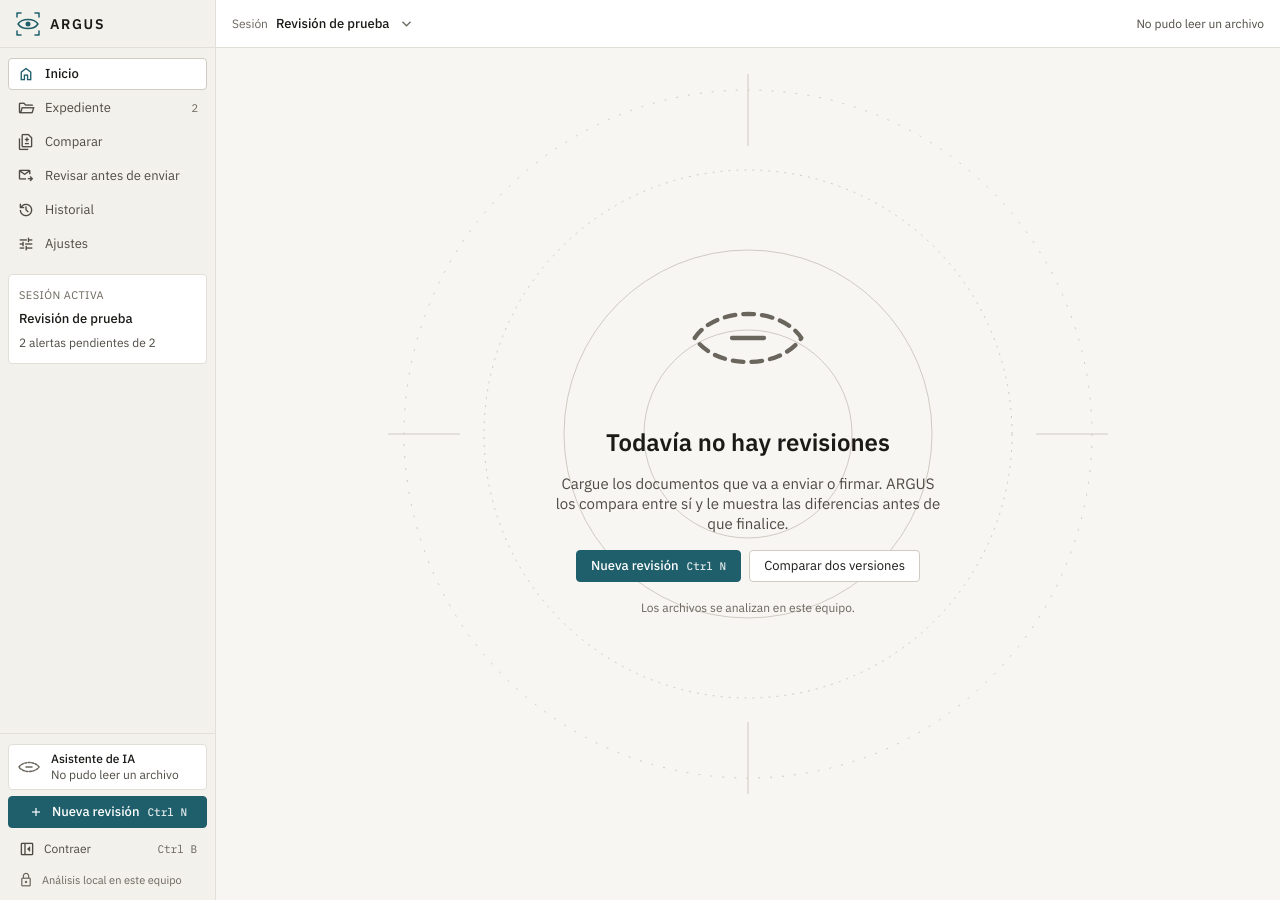
Scenario: Expediente: datos confirmados › muestra qué documento contradice el dato y dónde aparece
Click the button "Expediente 2" at (108, 108), box [8,92,207,124]
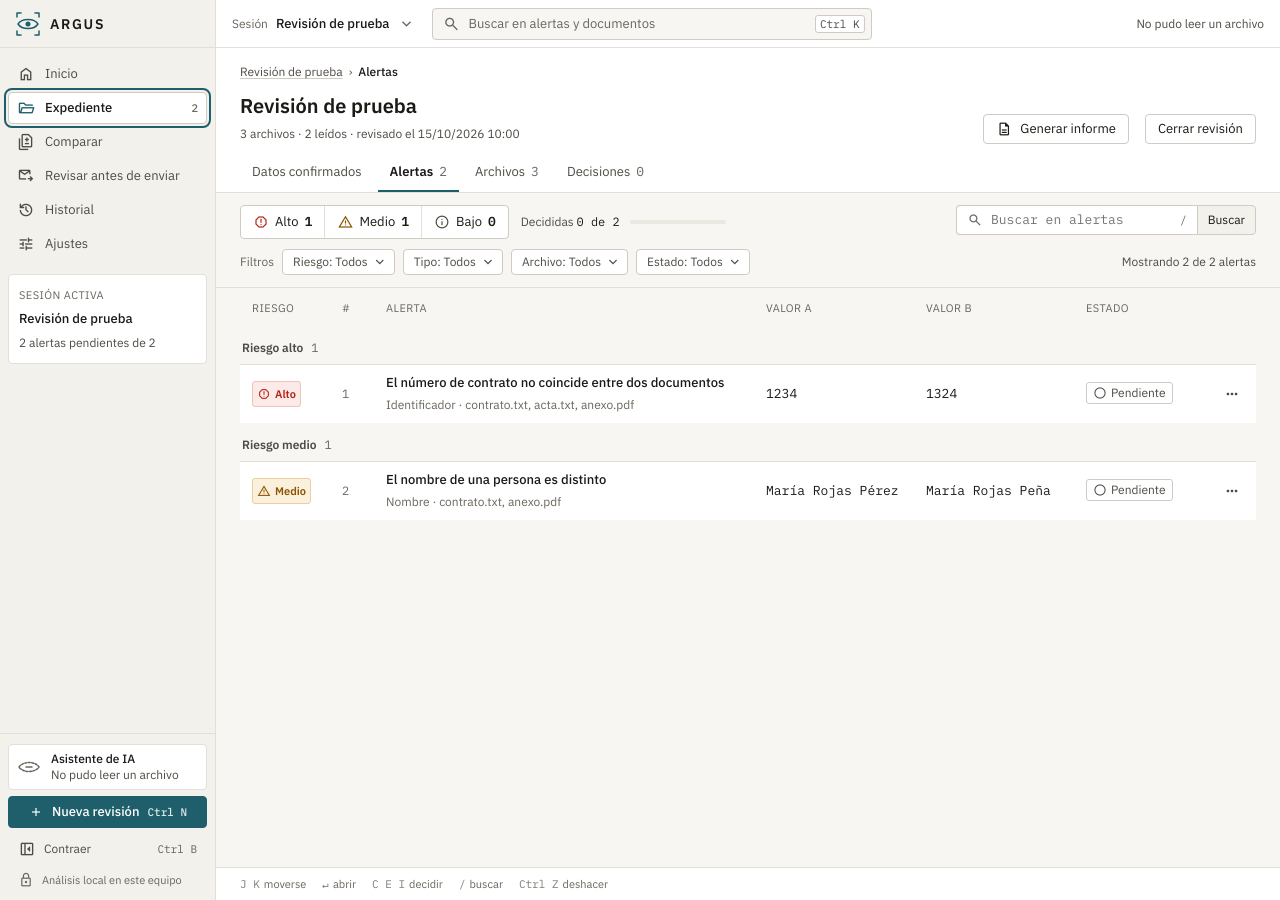
Click the tab "Datos confirmados" at (307, 173), box [240,154,374,192]
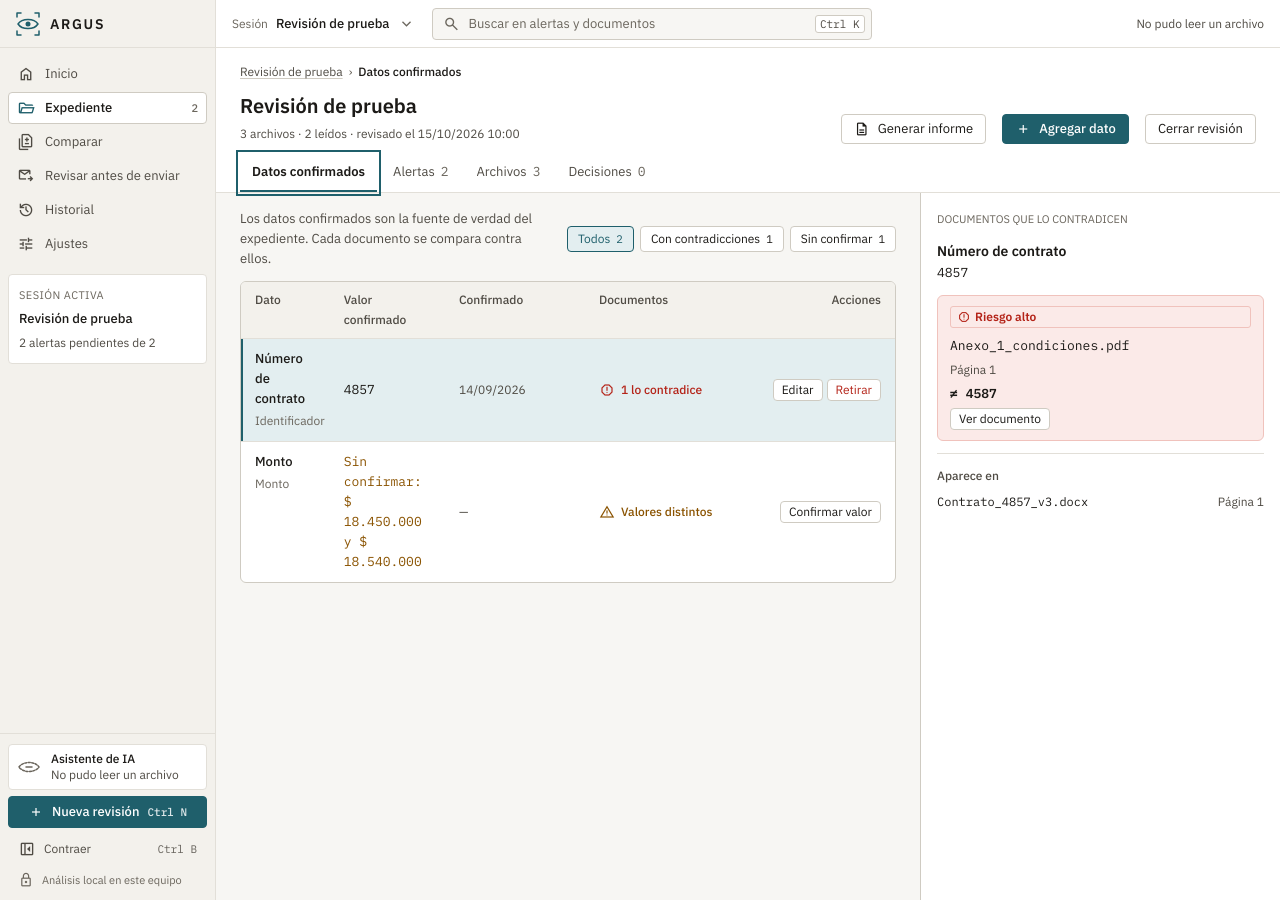
Expected: the text "Riesgo alto" is shown, [950,306,1251,328]
Expected: the text "1 lo contradice" is shown, [585,338,735,441]
Expected: the text "Anexo_1_condiciones.pdf" is shown, [950,336,1129,356]
